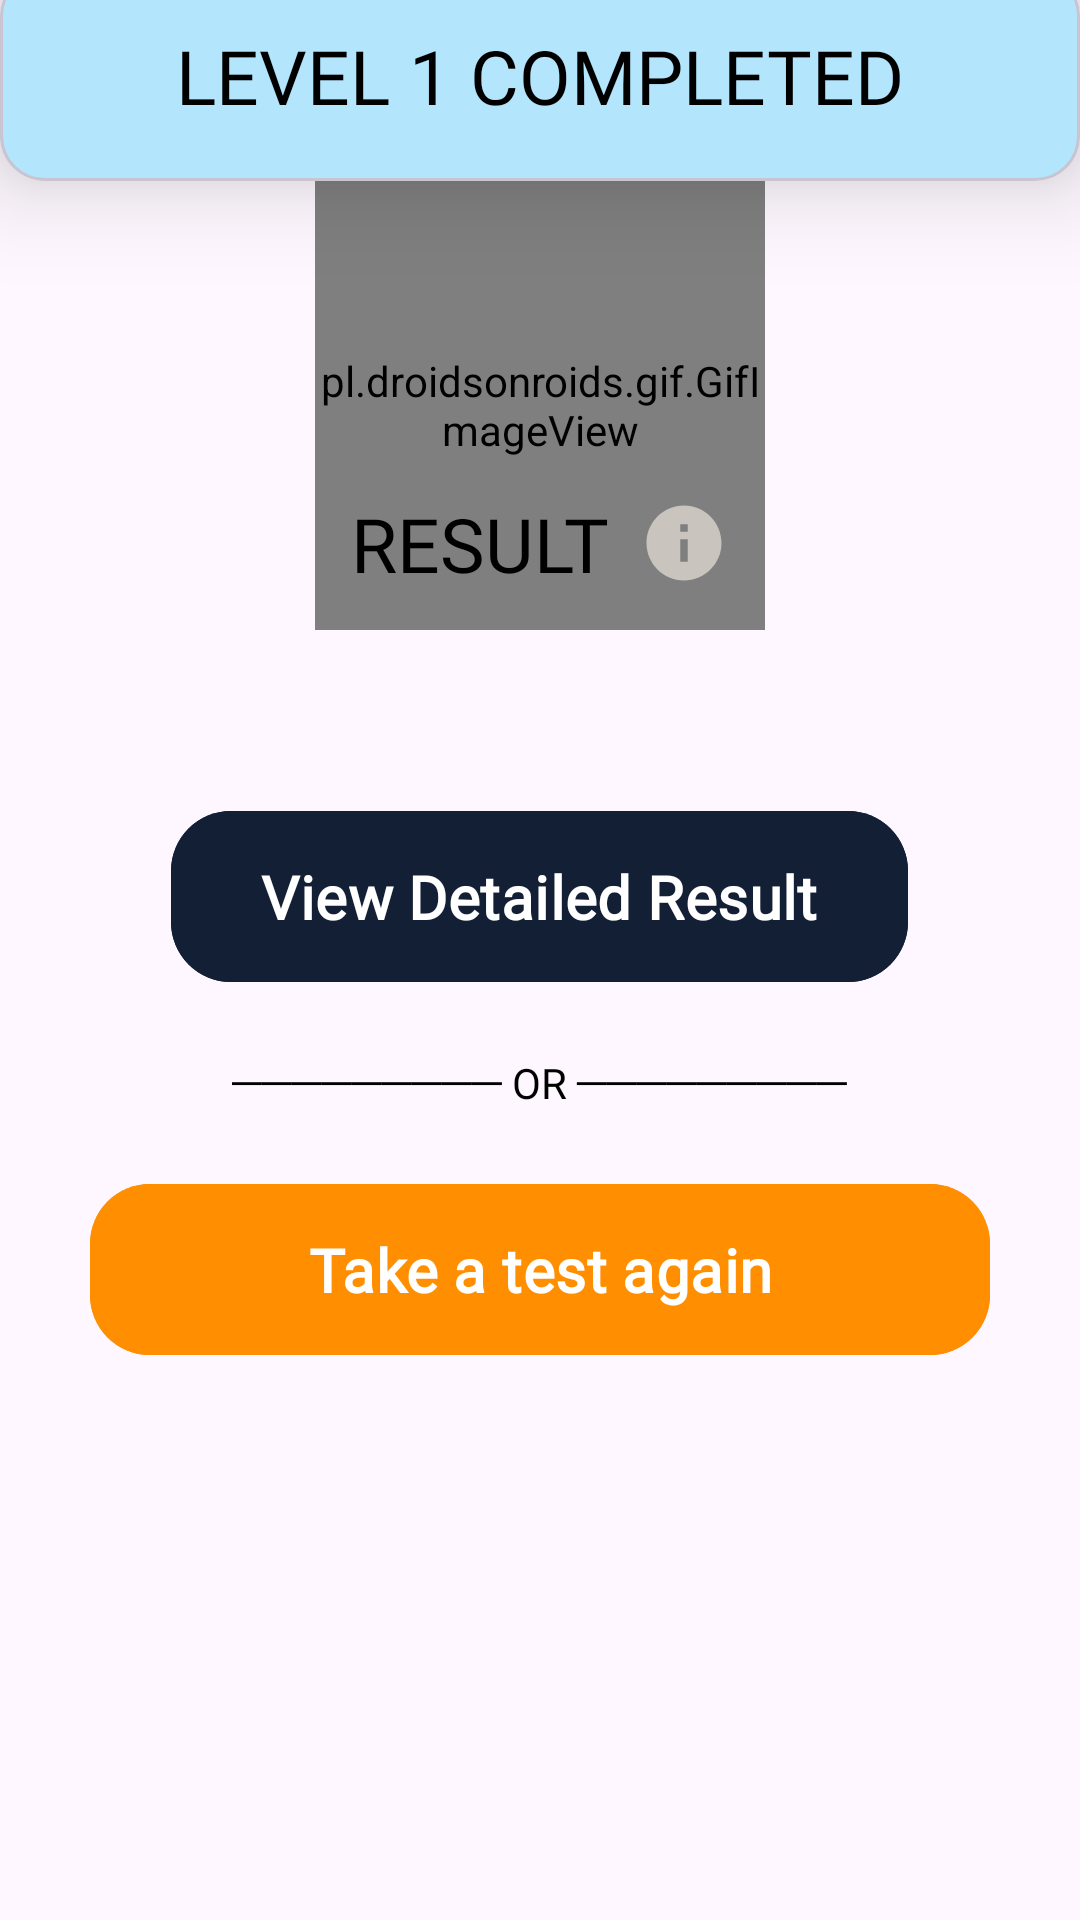

Icons on this 1080 x 1920 Android screen, each with the point to tap as (x,y):
info: (684,543)
